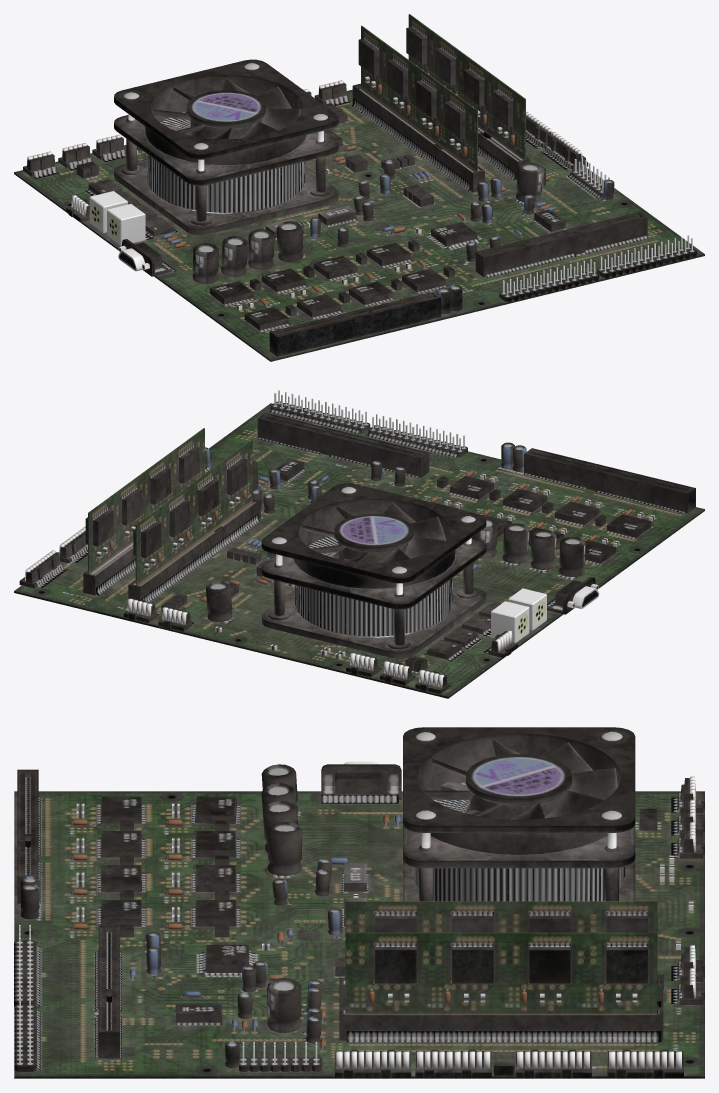
Rendered from motherboard.glb.
3 renders of one model, top to bottom at view 1: azimuth 30°, elevation 25°; view 2: azimuth 150°, elevation 25°; view 3: azimuth 270°, elevation 25°, orthographic. The views are drawn at different scales.
Visible parts, largest first — view 1: circuit_board; view 2: circuit_board; view 3: circuit_board.
Part boxes in pixels (x1=…): circuit_board: x1=14, y1=14, x2=704, y2=361; circuit_board: x1=14, y1=390, x2=704, y2=698; circuit_board: x1=14, y1=727, x2=704, y2=1078.
Size of the model in its own units: 0.4035 by 0.0783 by 0.3974.
2 materials, 2 textured.
